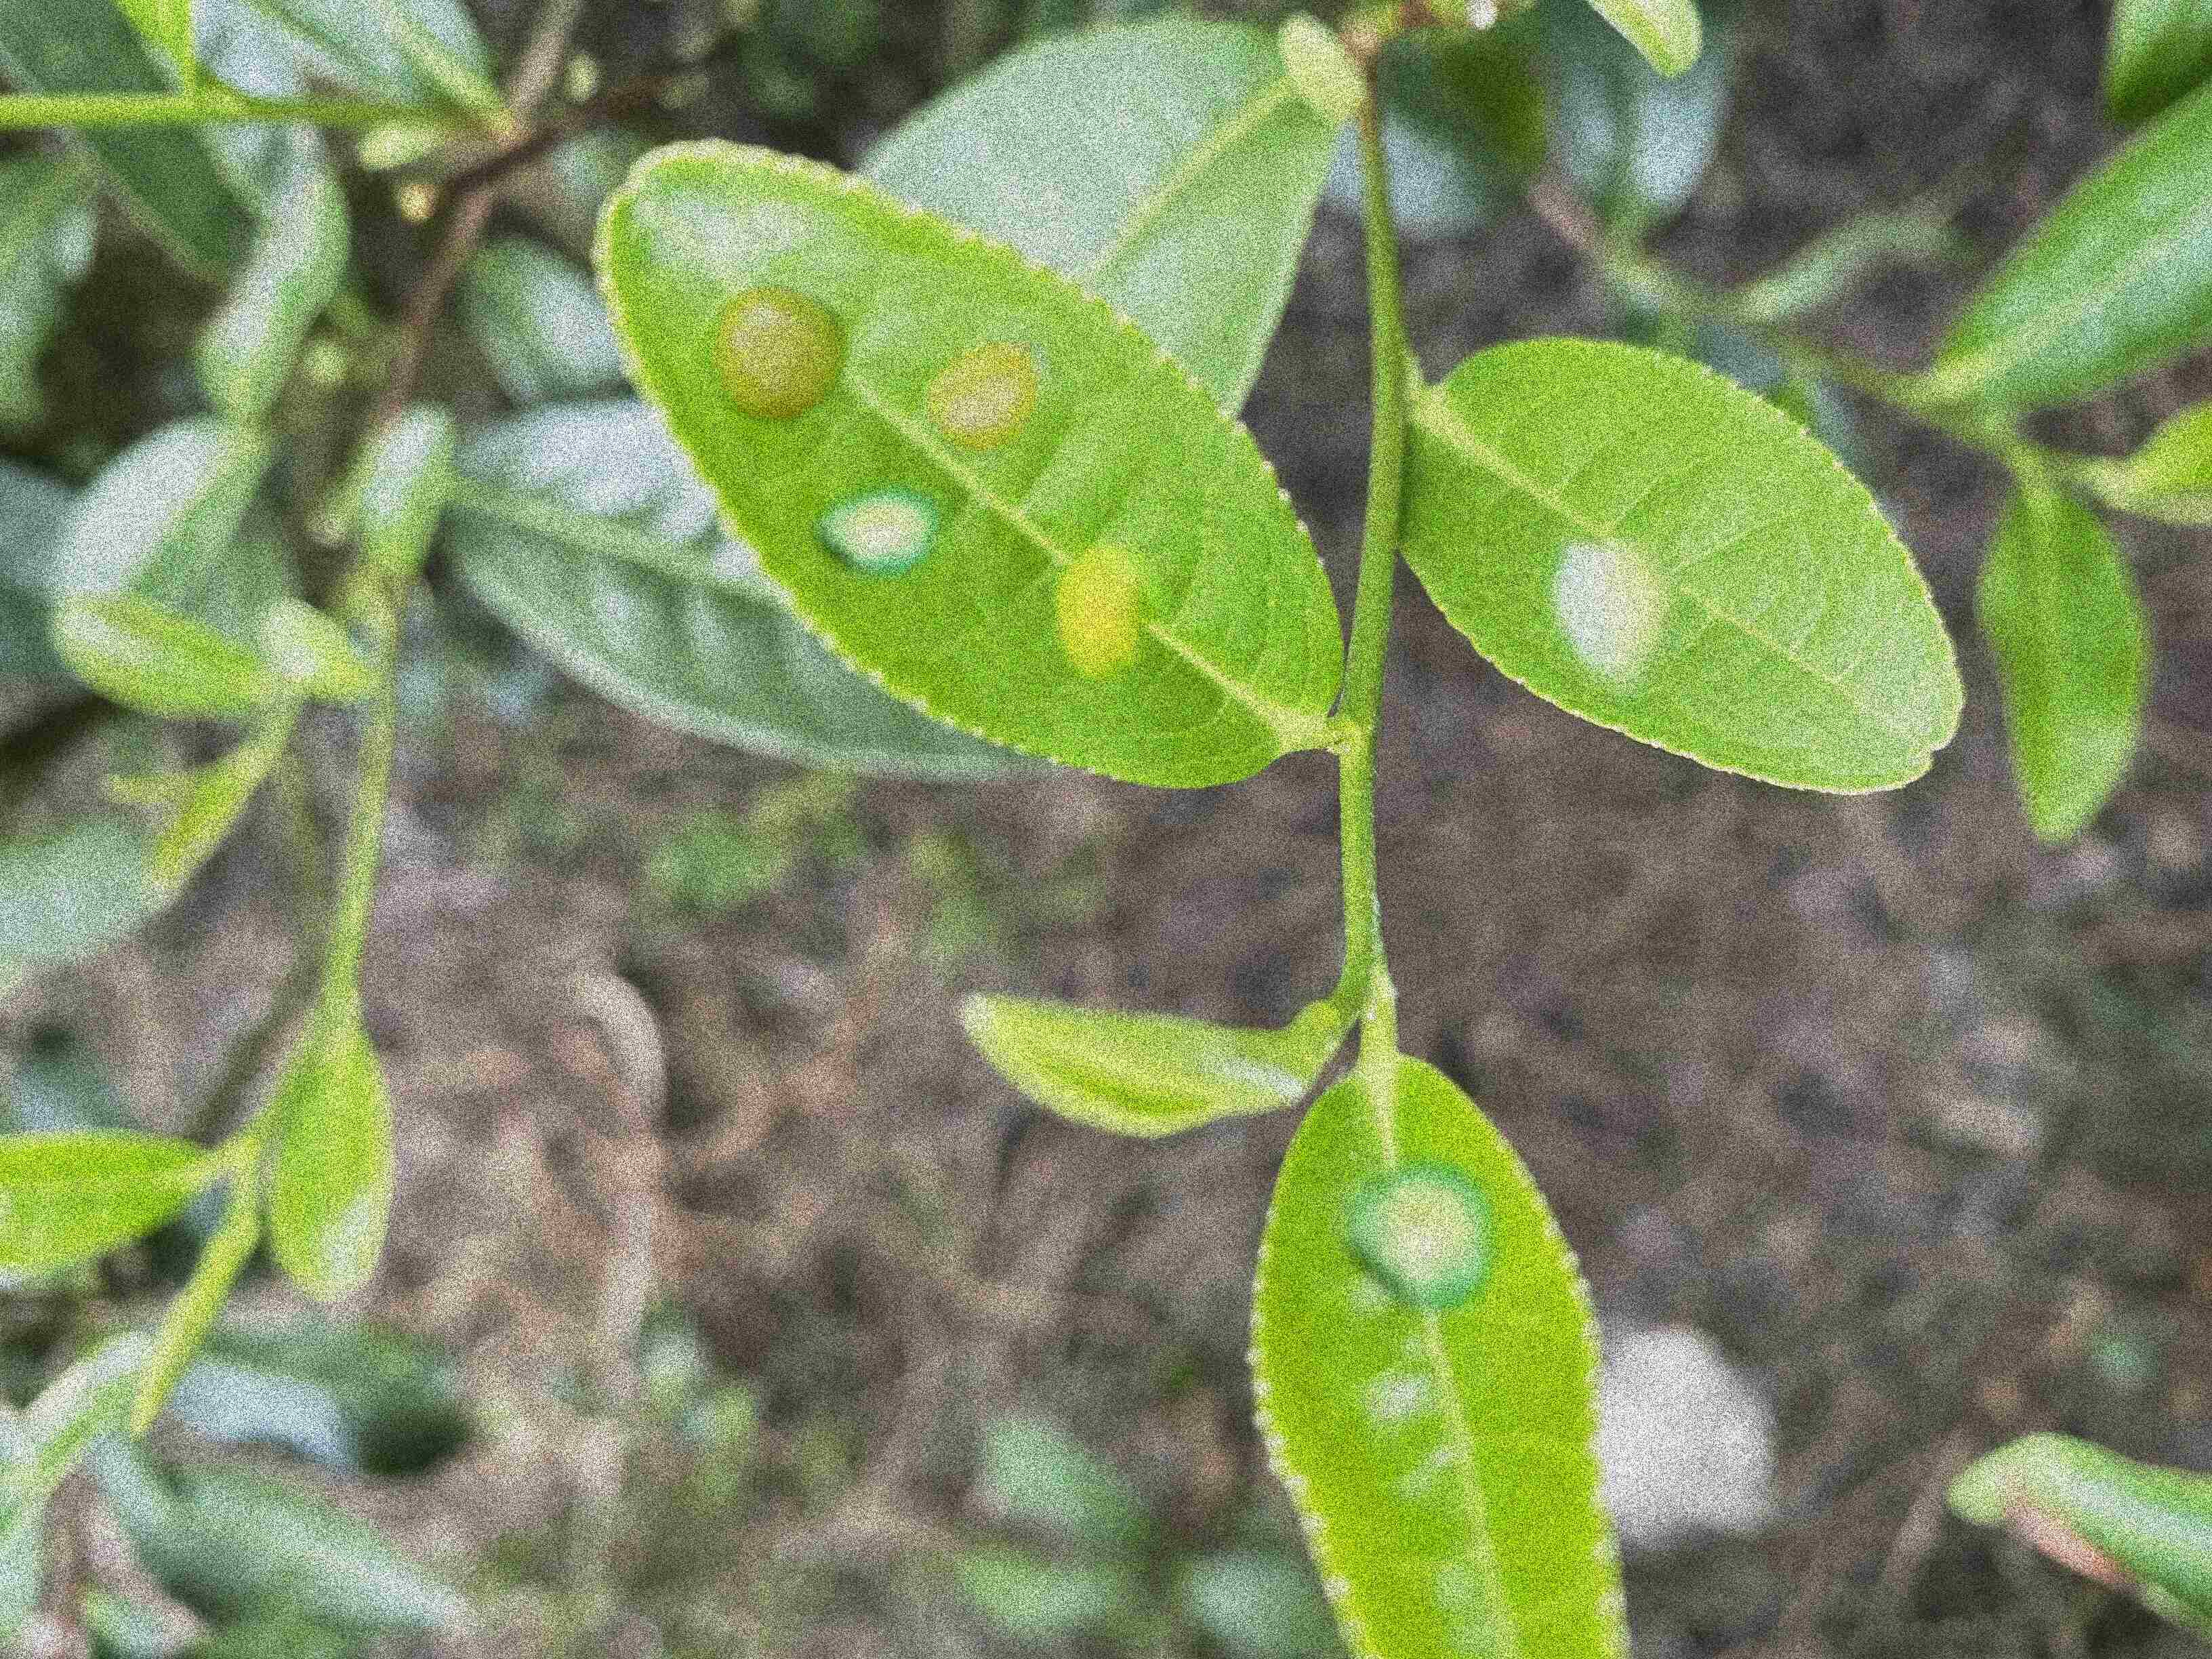chabing_high: (592, 138, 1348, 791)
chabing_low: (1400, 340, 1961, 796), (1244, 1049, 1623, 1657)
